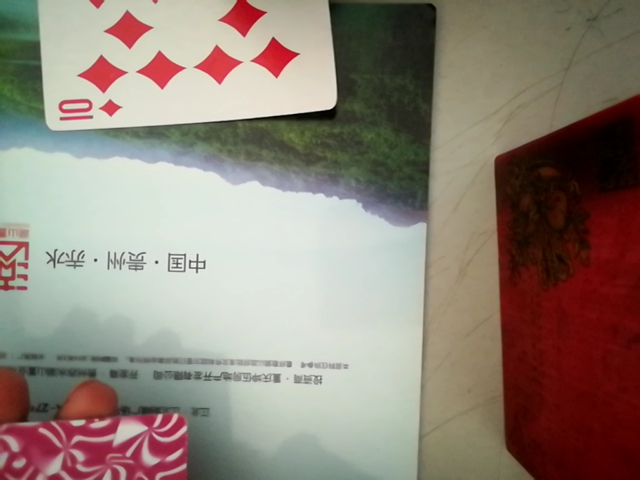fk 10: (30, 1, 346, 139)
